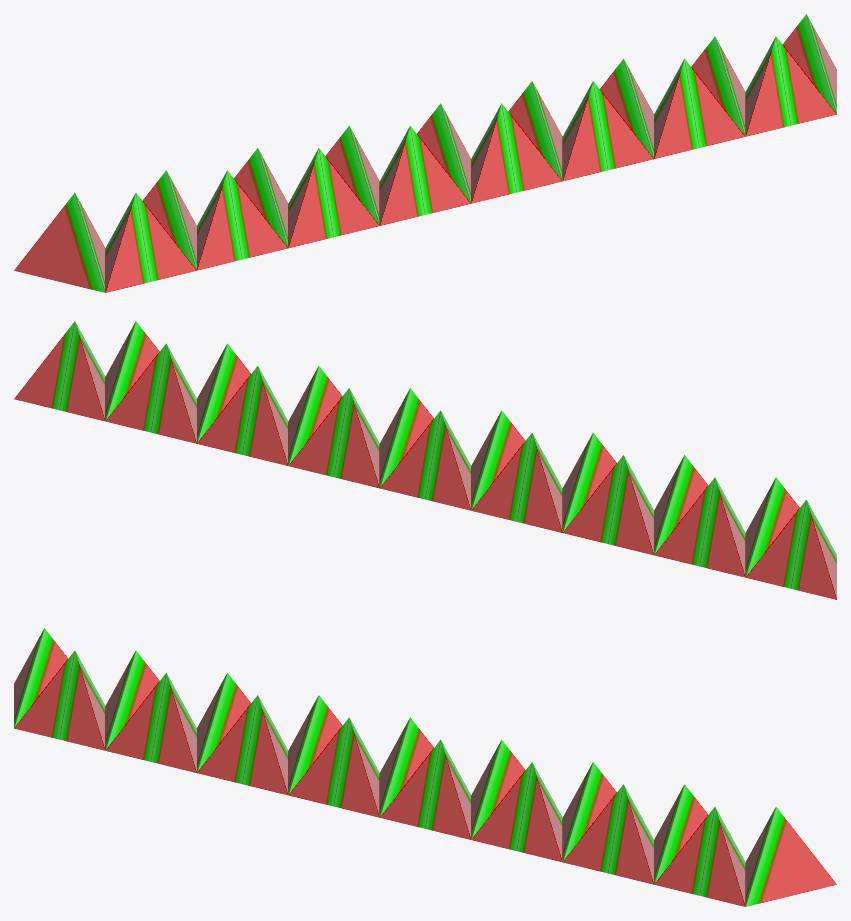
File: compu_tri.fbx
3 views of the same model, one above another, from view 1: azimuth 30°, elevation 25°; view 2: azimuth 150°, elevation 25°; view 3: azimuth 330°, elevation 25° (orthographic).
Visible parts, largest first — view 1: tri_B_L1, tri_B_R2, tri_T_L4, tri_B_R4, tri_B_R4_2, tri_B_L2, tri_B_R1, tri_B_R3, tri_B_L3, tri_TC, tri_T_L2, tri_T_R3 (+5 smaller); view 2: tri_TC, tri_T_R2, tri_T_R4, tri_T_L3, tri_T_L1, tri_T_R1, tri_T_R3, tri_T_L4, tri_T_L2, tri_B_R1, tri_B_L2, tri_B_R4_2 (+5 smaller); view 3: tri_B_R1, tri_B_L2, tri_T_R4, tri_B_R4_2, tri_B_R4, tri_B_R2, tri_B_L1, tri_B_L3, tri_B_R3, tri_TC, tri_T_R2, tri_T_L3 (+5 smaller).
Part boxes in pixels (box(x1,y1,x2,y2)): tri_B_L1: box(379, 126, 470, 225); tri_B_R2: box(562, 81, 653, 181); tri_T_L4: box(14, 193, 105, 292); tri_B_R4: box(745, 37, 836, 136); tri_B_R4_2: box(105, 193, 196, 292); tri_B_L2: box(288, 148, 379, 248); tri_B_R1: box(471, 103, 562, 203); tri_B_R3: box(654, 59, 745, 158); tri_B_L3: box(197, 170, 287, 270); tri_TC: box(417, 103, 471, 203); tri_T_L2: box(234, 148, 288, 247); tri_T_R3: box(691, 37, 745, 136); tri_TC: box(380, 410, 471, 510); tri_T_R2: box(197, 366, 288, 465); tri_T_R4: box(14, 321, 105, 421); tri_T_L3: box(654, 477, 745, 577); tri_T_L1: box(471, 433, 562, 532); tri_T_R1: box(288, 388, 379, 488); tri_T_R3: box(105, 343, 196, 443); tri_T_L4: box(746, 500, 836, 599); tri_T_L2: box(563, 455, 653, 555); tri_B_R1: box(379, 388, 433, 487); tri_B_L2: box(562, 433, 616, 532); tri_B_R4_2: box(745, 477, 799, 576); tri_B_R1: box(380, 740, 471, 839); tri_B_L2: box(197, 695, 288, 795); tri_T_R4: box(745, 807, 836, 906); tri_B_R4_2: box(14, 651, 105, 750); tri_B_R4: box(654, 807, 745, 906); tri_B_R2: box(471, 762, 562, 862); tri_B_L1: box(288, 717, 379, 817); tri_B_L3: box(105, 673, 196, 772); tri_B_R3: box(563, 784, 653, 884); tri_TC: box(379, 717, 433, 817); tri_T_R2: box(562, 762, 616, 861); tri_T_L3: box(105, 651, 159, 750).
Bounding box in the file's own units: 1470 × 133 × 141.
Materials: 17 (17 with a texture image).
